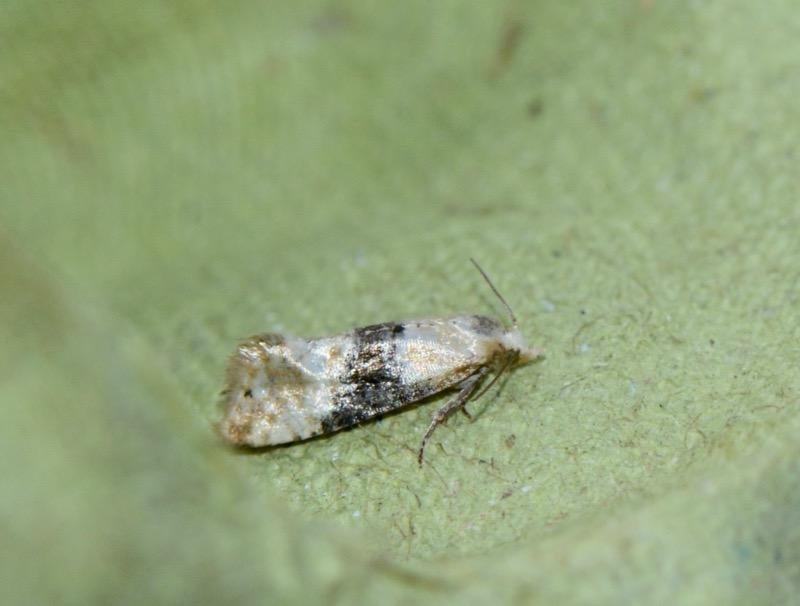Eupoecilia Ambiguella: (211, 255, 541, 470)
